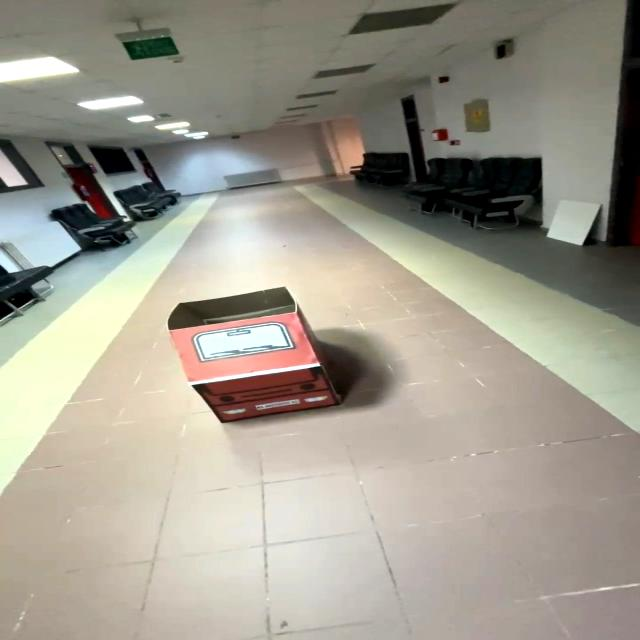red_car: (151, 278, 364, 432)
